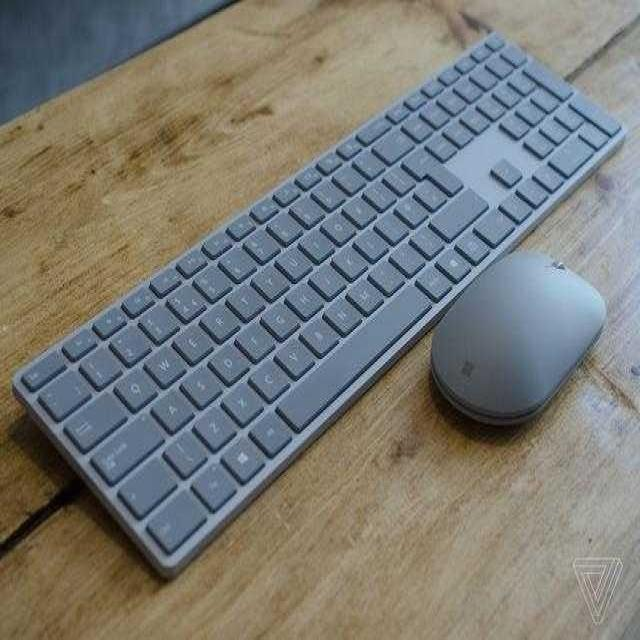keyboard: (7, 30, 628, 578)
